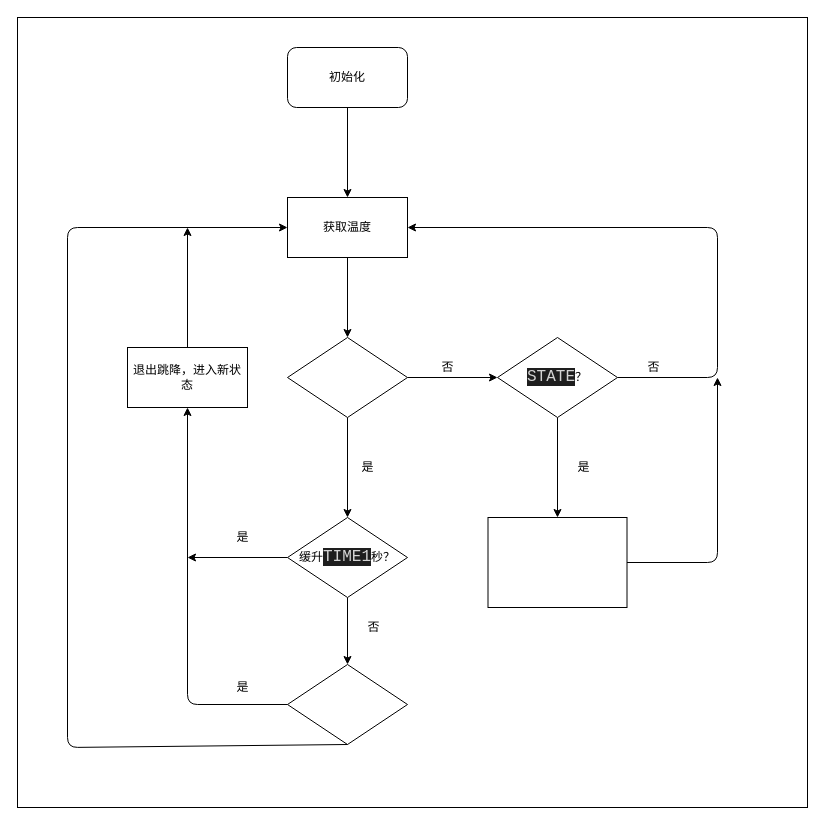
The diagram is 825 pixels wide and 825 high, and some of its shapes have lost their labels. The shapes that lost their labels are listed below. From the top down, each one's centre as x and y in pixels, then its label:
At (x=347, y=377): "跳降状态？".
At (x=557, y=562): "进入跳降，温度大于 TIME1 度烟机开 TIME1 档，小于 TIME1 度开 TIME1 档，否则保持当前档位".
At (x=347, y=704): "平缓 TIME2 秒？".
